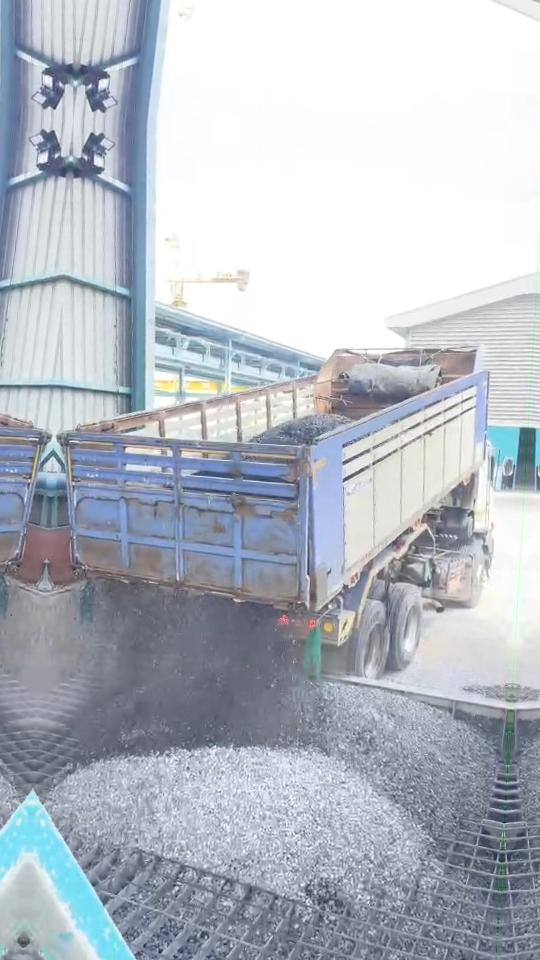gravel: (48, 747, 427, 905), (66, 582, 345, 761), (314, 681, 497, 839), (250, 414, 350, 444), (464, 682, 511, 701)
